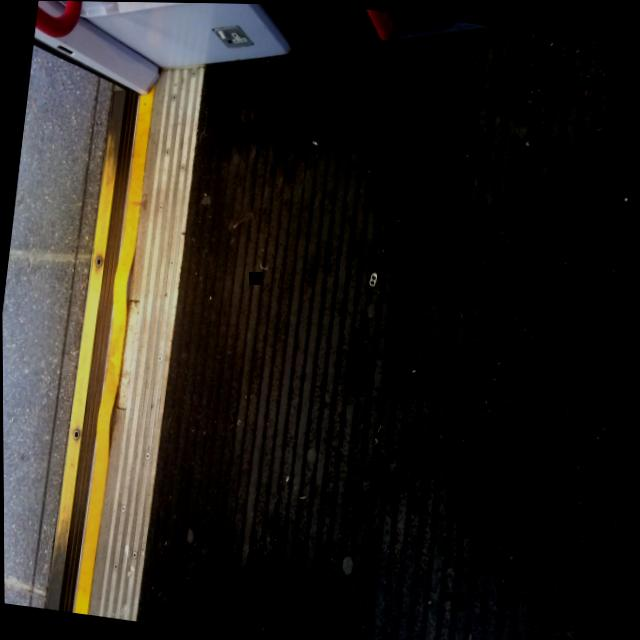Pop tab: (367, 271, 375, 285)
